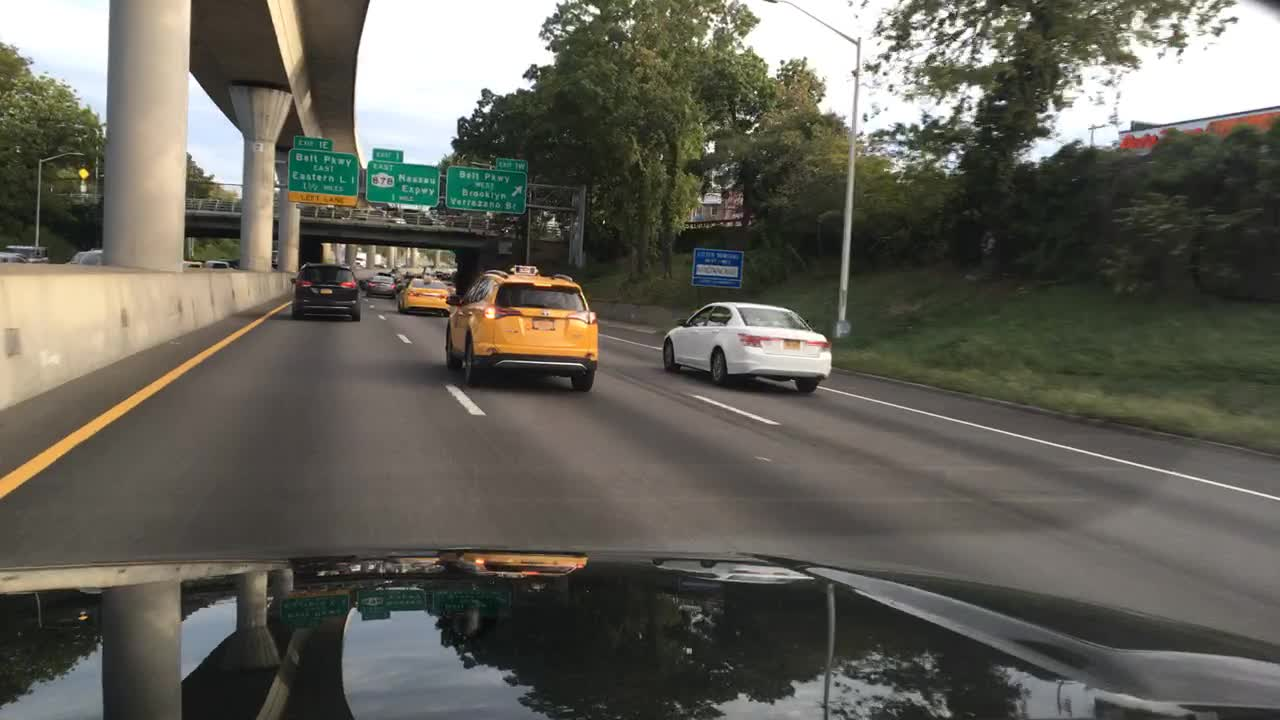car: (442, 265, 598, 396), (664, 302, 832, 392), (288, 261, 361, 321), (397, 276, 449, 314), (364, 271, 399, 297), (351, 208, 407, 224), (8, 244, 48, 264), (403, 208, 438, 226), (78, 247, 104, 266), (1, 252, 31, 265), (204, 259, 232, 272), (67, 250, 89, 266), (399, 273, 417, 289), (183, 259, 203, 270), (444, 279, 456, 296), (446, 270, 459, 283), (226, 259, 239, 269), (423, 273, 438, 281), (435, 269, 444, 281), (271, 262, 281, 272)
traffic sign: (288, 149, 359, 209), (445, 168, 527, 214), (364, 161, 440, 209), (694, 249, 745, 287), (293, 135, 332, 153), (494, 156, 530, 172), (373, 148, 401, 164), (75, 167, 89, 181), (78, 183, 89, 192)
